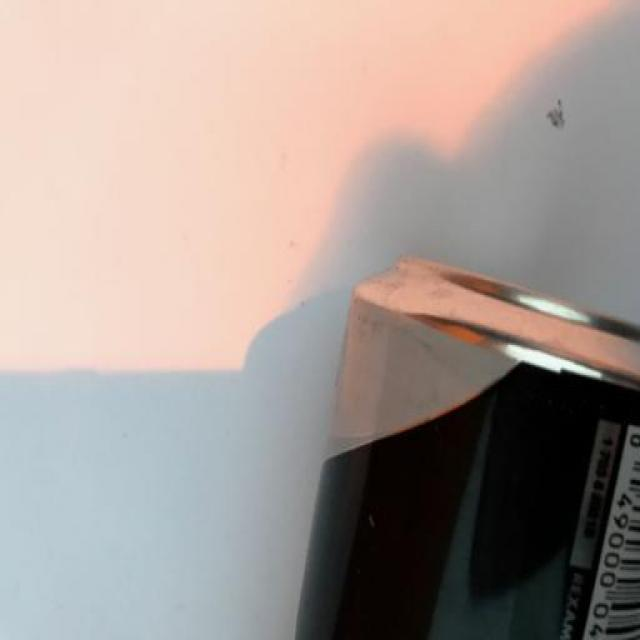metel: (262, 202, 640, 640)
